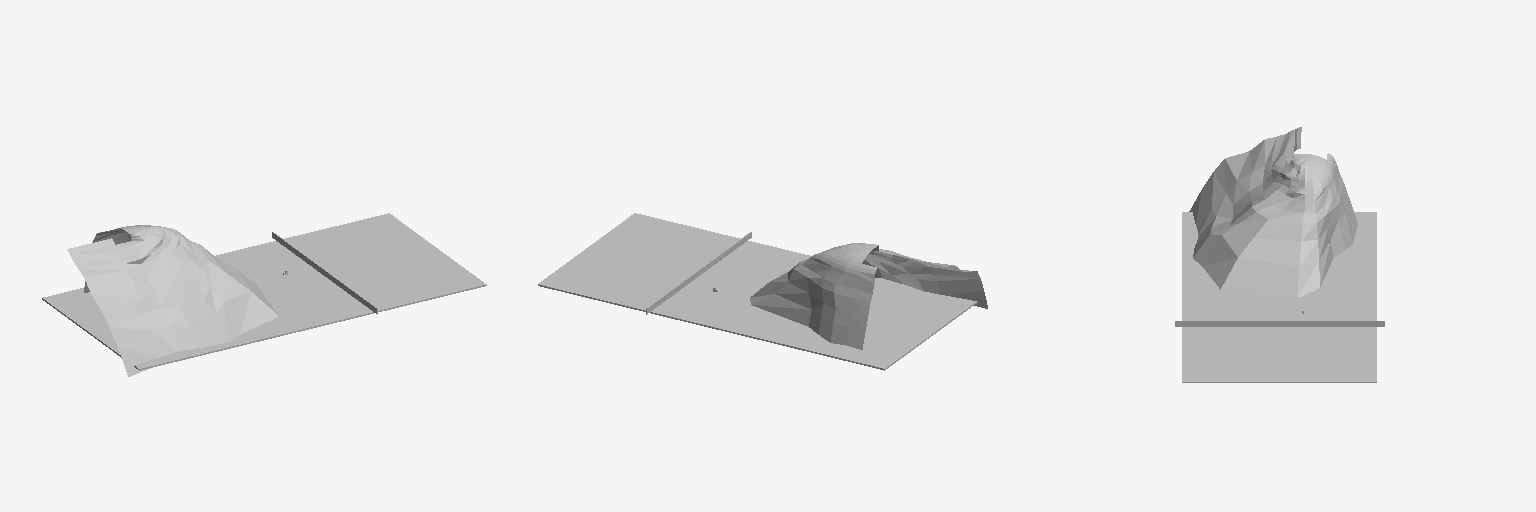
Rendered from TEMP_Hill+Wall.obj.
3 renders of one model, left to right at view 1: azimuth 30°, elevation 25°; view 2: azimuth 150°, elevation 25°; view 3: azimuth 270°, elevation 25°, orthographic.
Visible parts, largest first — view 1: pCube31, pSphere2, pCube30; view 2: pCube31, pSphere2, pCube30; view 3: pCube31, pSphere2, pCube30.
Boxes of the visible parts, x1,y1,x2,y2 form: pCube31: [42, 213, 486, 370]; pSphere2: [67, 225, 278, 376]; pCube30: [272, 232, 377, 314]; pCube31: [538, 213, 977, 370]; pSphere2: [750, 243, 987, 349]; pCube30: [646, 232, 751, 314]; pCube31: [1182, 212, 1376, 382]; pSphere2: [1189, 127, 1357, 296]; pCube30: [1175, 321, 1384, 326].
Size of the model in its own units: 1173 by 277 by 585.